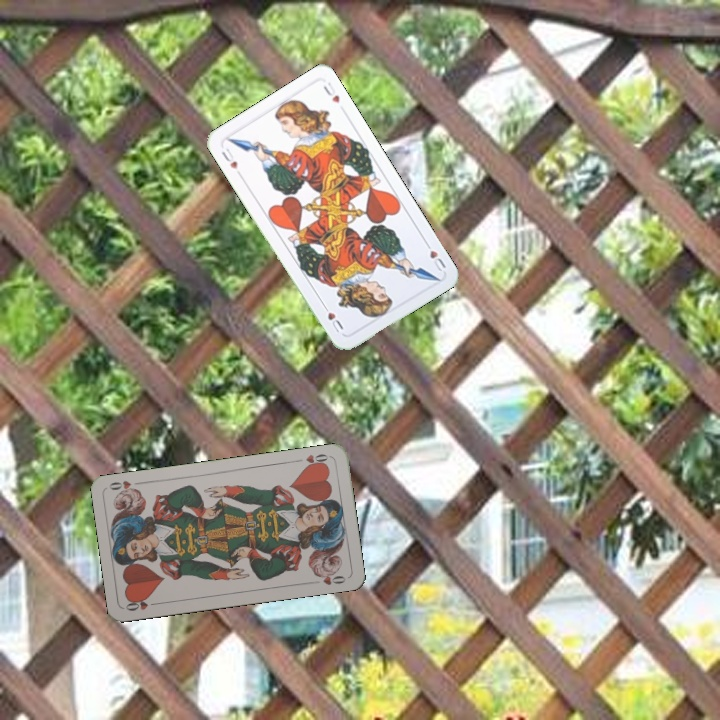HO: (122, 594, 162, 614), (292, 450, 330, 470)
HU: (421, 237, 448, 274), (217, 144, 240, 172)
